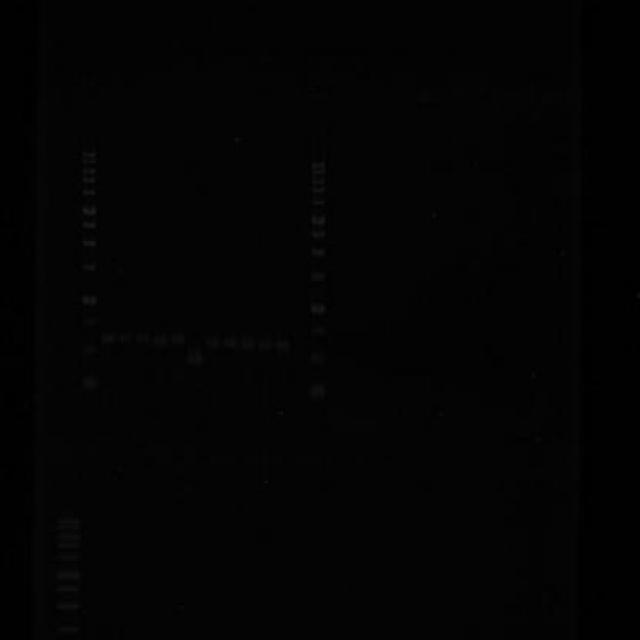B: (186, 348, 205, 367), (274, 338, 292, 356), (150, 332, 170, 348), (256, 336, 273, 353), (220, 336, 238, 352), (238, 338, 256, 353), (134, 331, 150, 347), (118, 332, 134, 346), (170, 331, 184, 347), (100, 332, 114, 348), (206, 334, 220, 350)
M: (74, 143, 102, 408), (304, 152, 333, 405)
P: (308, 382, 328, 402), (80, 374, 97, 396), (308, 350, 327, 368), (82, 340, 100, 358), (310, 301, 327, 317), (309, 326, 326, 340), (82, 293, 98, 307), (82, 316, 98, 330), (81, 261, 97, 274), (310, 246, 326, 259), (309, 270, 326, 282), (310, 214, 326, 226), (80, 206, 96, 217), (310, 229, 326, 240), (82, 236, 95, 249), (80, 188, 96, 198), (310, 197, 324, 208), (82, 220, 95, 231), (80, 157, 96, 165), (312, 187, 326, 196), (311, 177, 324, 186), (82, 150, 96, 158), (310, 160, 324, 168), (82, 176, 95, 184), (82, 167, 95, 175), (310, 168, 324, 174)
